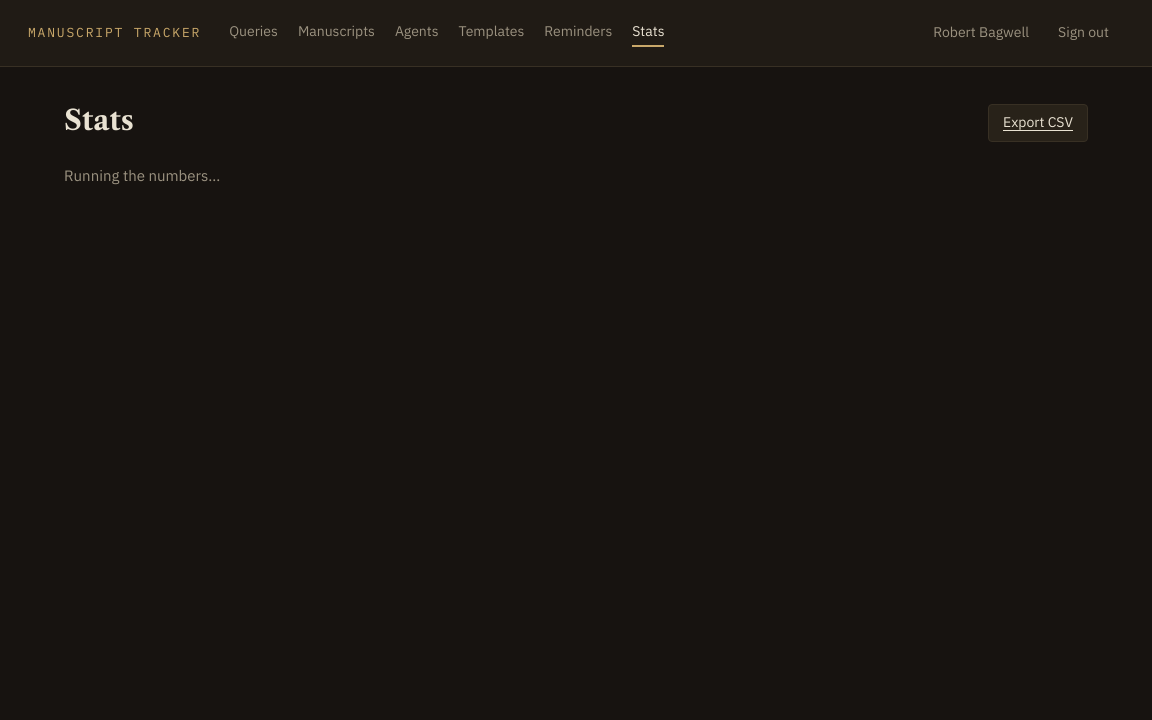
Scenario: RequireAuth › signing out returns to the login page
This screenshot has width=1152, height=720.
Check: the heading "Stats" is shown, box [64, 99, 134, 142]
What coordinates should you click on to do the following:
click the button "Sign out"
I would click on:
 (1084, 33)
Its box is [1043, 14, 1124, 52].
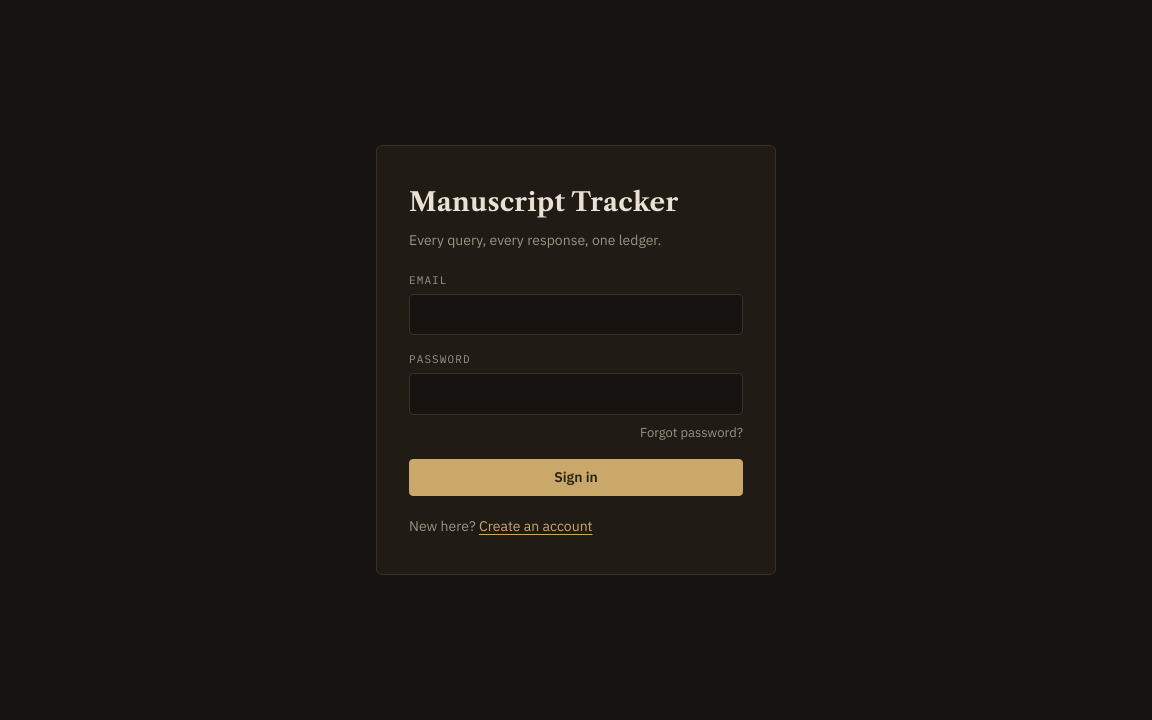
Check: the button "Sign in" is shown, box [409, 459, 743, 496]
